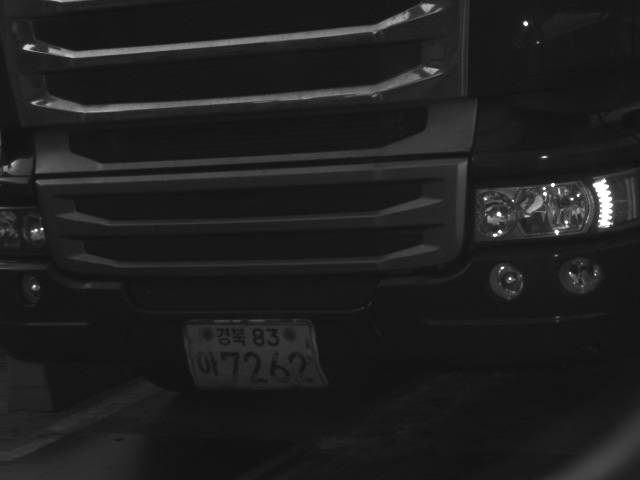car: (1, 1, 639, 395)
plate: (180, 319, 331, 391)
